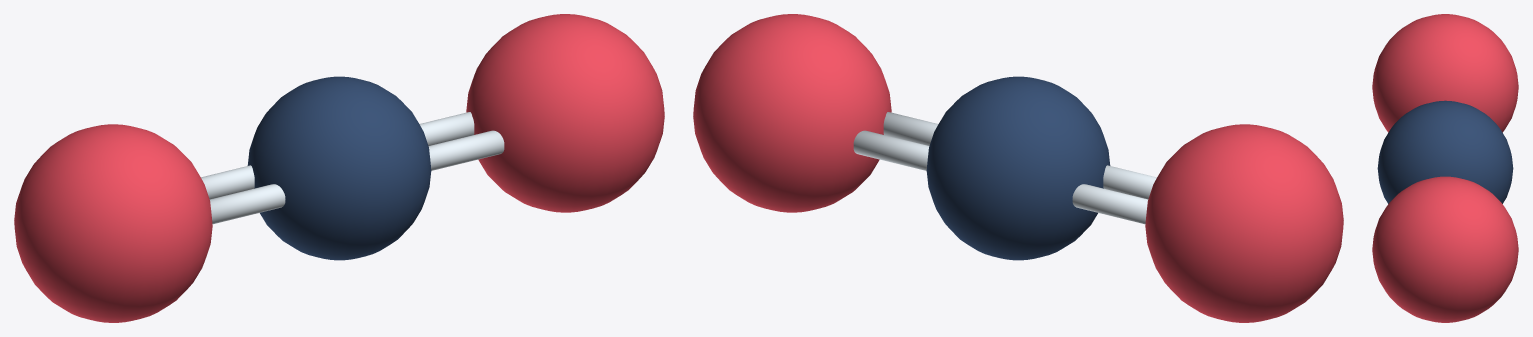
File: carbon-dioxide-quality.glb
3 renders of one model, left to right at view 1: azimuth 30°, elevation 25°; view 2: azimuth 150°, elevation 25°; view 3: azimuth 270°, elevation 25°, orthographic. The views are drawn at different scales.
Visible parts, largest first — view 1: Carbon; view 2: Carbon; view 3: Carbon.
Boxes of the visible parts, x1,y1,x2,y2 form: Carbon: (14, 14, 664, 322); Carbon: (693, 14, 1343, 322); Carbon: (1372, 14, 1518, 322).
Size of the model in its own units: 2.9 by 0.8 by 0.8.
